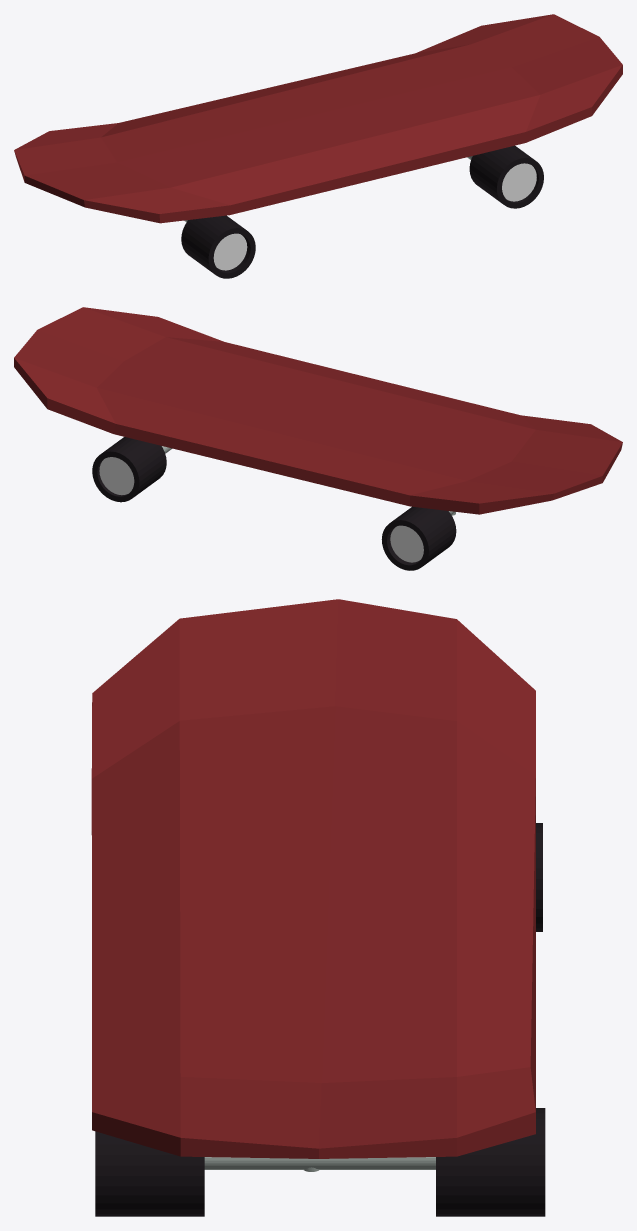
The model's file is skateboard.glb.
The picture shows the model from 3 angles, top to bottom: view 1: azimuth 30°, elevation 25°; view 2: azimuth 150°, elevation 25°; view 3: azimuth 270°, elevation 25°; orthographic projection. The views are drawn at different scales.
Visible parts, largest first — view 1: Skateboard, Cylinder.007, Cylinder.004; view 2: Skateboard, Cylinder.006, Cylinder.008; view 3: Skateboard, Cylinder.008, Cylinder.004, Cylinder.002.
Part boxes in pixels (x1,y1,x2,y2): Skateboard: (14, 14, 622, 223); Cylinder.007: (181, 215, 255, 278); Cylinder.004: (469, 145, 543, 208); Skateboard: (14, 307, 622, 514); Cylinder.006: (381, 506, 456, 570); Cylinder.008: (92, 437, 166, 502); Skateboard: (91, 599, 535, 1158); Cylinder.008: (436, 1108, 545, 1216); Cylinder.004: (95, 1131, 204, 1216); Cylinder.002: (204, 1157, 435, 1169).
Size of the model in its own units: 2.96 by 0.4832 by 1.02.
